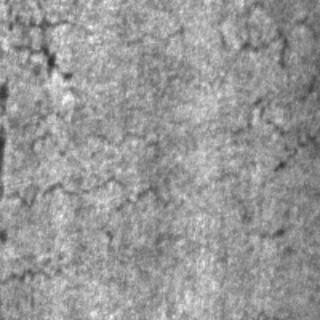crazing: (0, 88, 314, 206), (2, 0, 94, 80), (207, 0, 315, 68)
